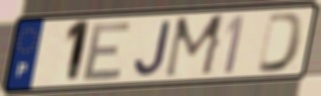1: (62, 18, 91, 86), (224, 13, 246, 76)
D: (254, 10, 307, 75)
E: (80, 19, 134, 84)
J: (131, 18, 174, 79)
M: (161, 12, 228, 81)
